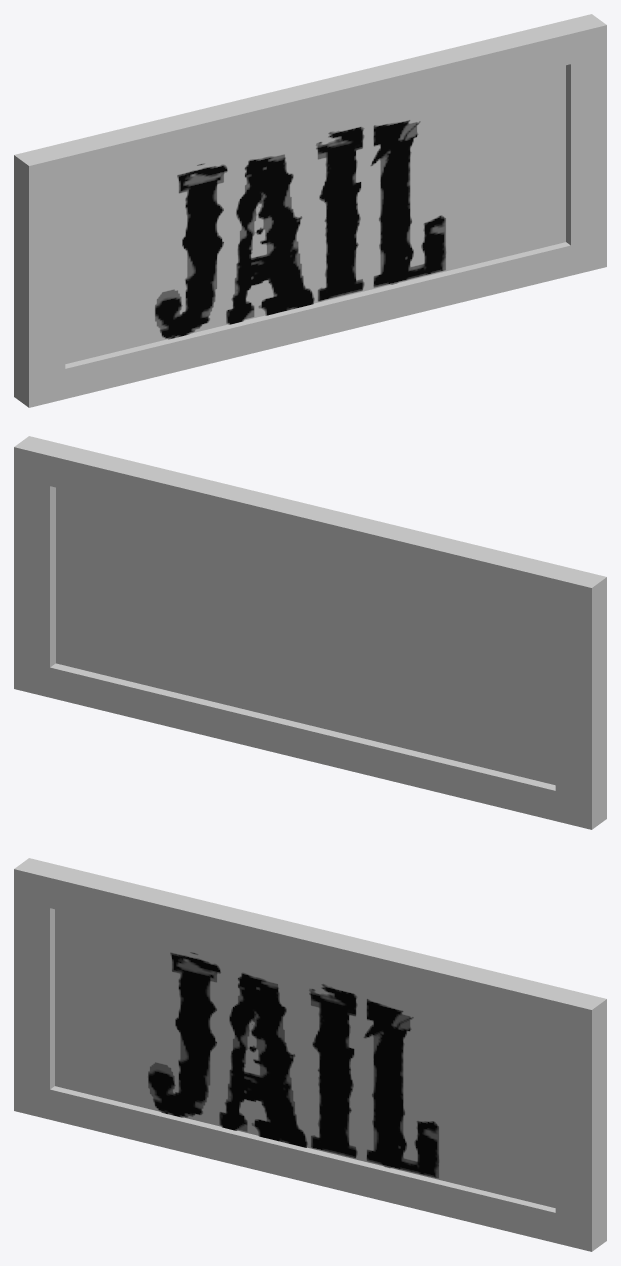
Rendered from SignBoard_2.fbx.
3 renders of one model, top to bottom at view 1: azimuth 30°, elevation 25°; view 2: azimuth 150°, elevation 25°; view 3: azimuth 330°, elevation 25°, orthographic.
Parts seen in each view (by area): view 1: SignBoard_2; view 2: SignBoard_2; view 3: SignBoard_2.
Boxes of the visible parts, box(x1,y1,x2,y2) form: SignBoard_2: box(14, 14, 606, 407); SignBoard_2: box(14, 436, 606, 829); SignBoard_2: box(14, 858, 606, 1251).
Size of the model in its own units: 2 by 0.8 by 0.0909.
